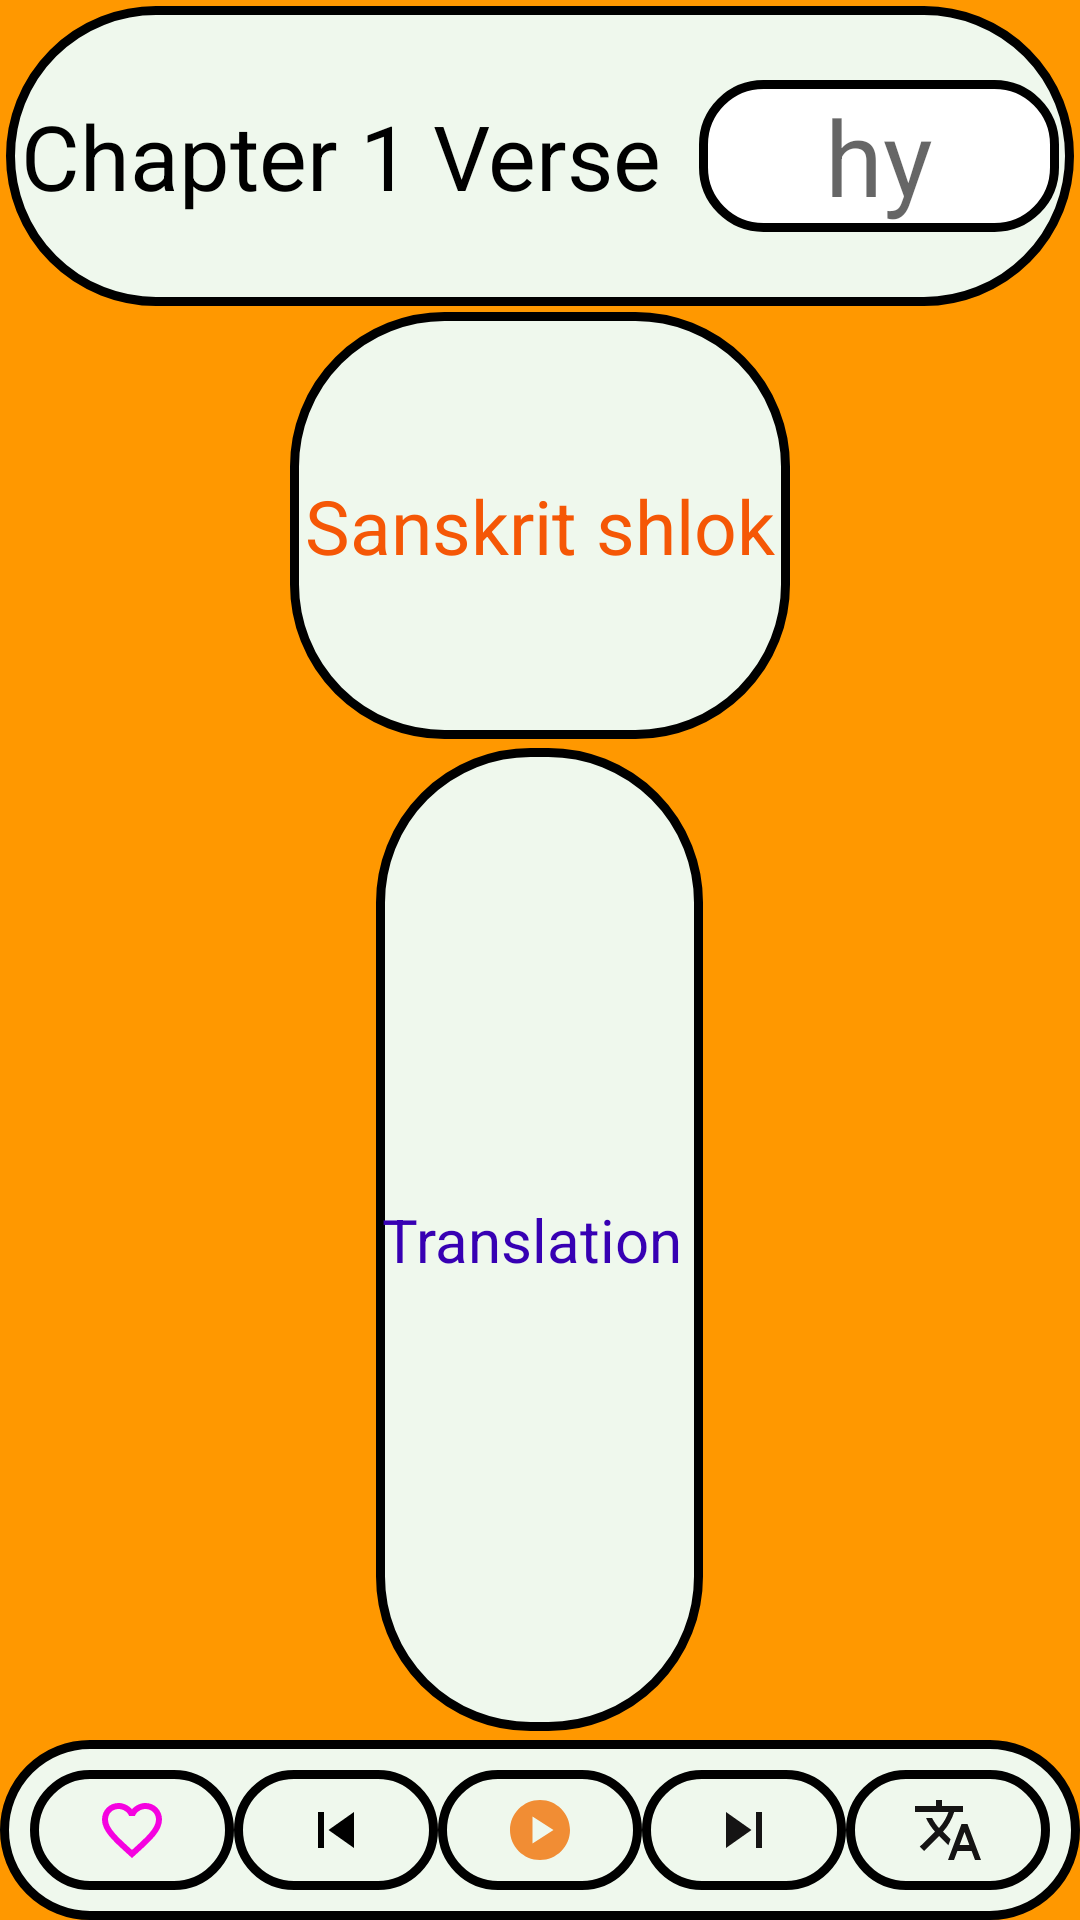

Where to tap for icons on this 1080px×1920px app screen, as (x,y):
lang: (948,1830)
next: (744,1830)
play music: (540,1830)
prev: (336,1830)
unliked: (132,1830)
